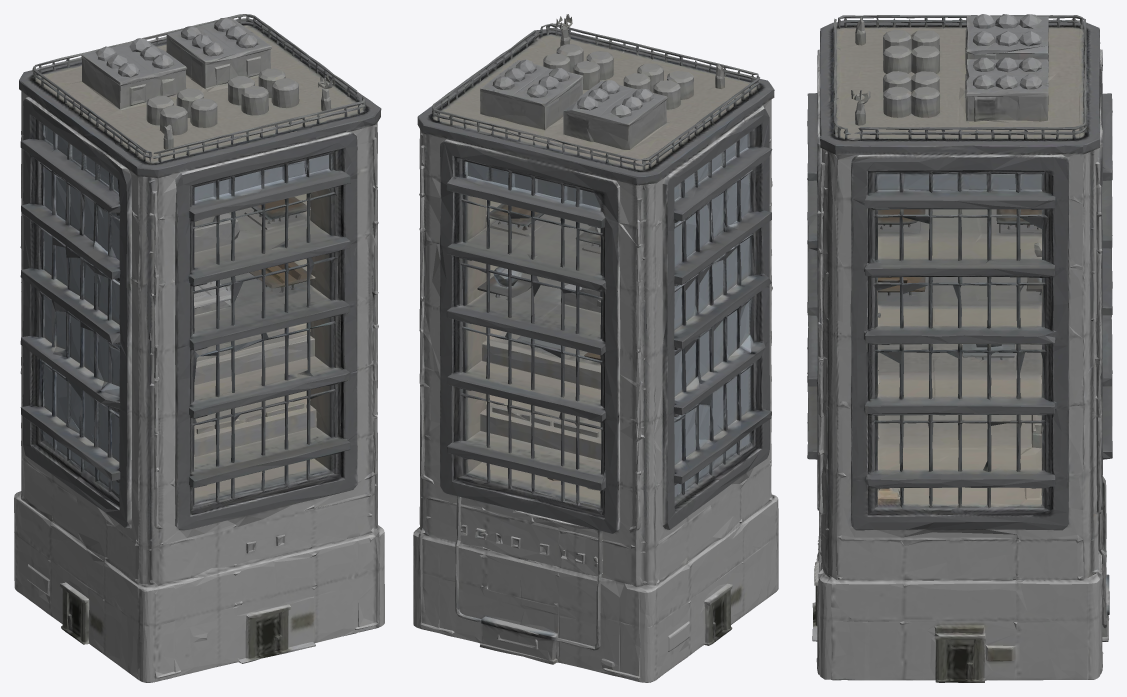
Rendered from building-skyscraper-a.glb.
3 views of the same model, side by side, from view 1: azimuth 30°, elevation 25°; view 2: azimuth 150°, elevation 25°; view 3: azimuth 270°, elevation 25° (orthographic). The views are drawn at different scales.
Parts seen in each view (by area): view 1: tripo_node_f560d01e-2398-4f96-8907-a7e8c835ffac; view 2: tripo_node_f560d01e-2398-4f96-8907-a7e8c835ffac; view 3: tripo_node_f560d01e-2398-4f96-8907-a7e8c835ffac.
Boxes of the visible parts, x1,y1,x2,y2 form: tripo_node_f560d01e-2398-4f96-8907-a7e8c835ffac: [14, 14, 384, 682]; tripo_node_f560d01e-2398-4f96-8907-a7e8c835ffac: [413, 14, 778, 682]; tripo_node_f560d01e-2398-4f96-8907-a7e8c835ffac: [807, 14, 1112, 682].
Bounding box in the file's own units: 0.5081 × 1 × 0.482.
Materials: 1 (1 with a texture image).
